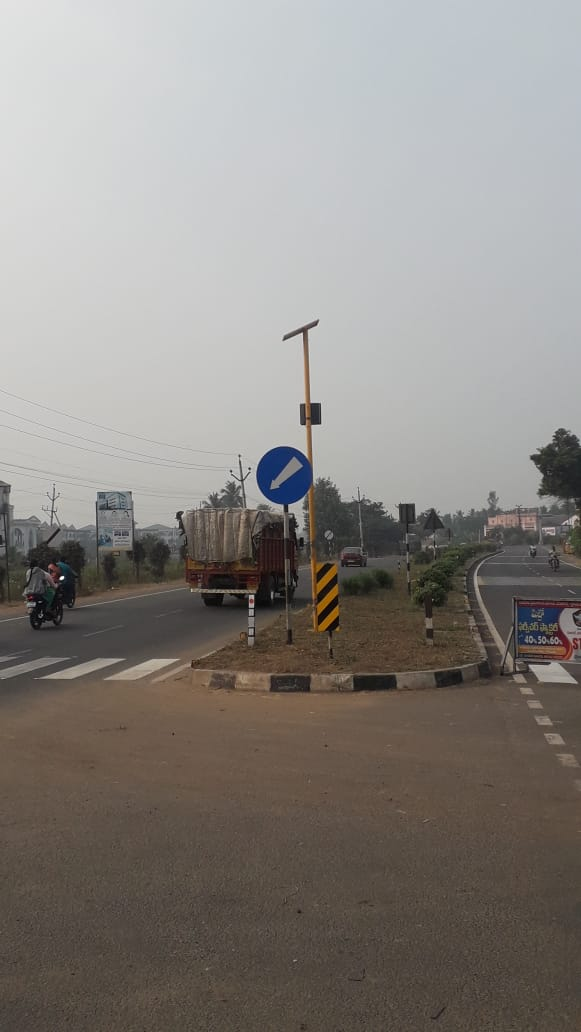go left: (253, 444, 334, 515)
